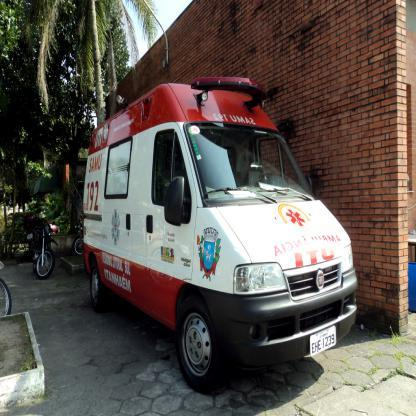ambulance: (84, 79, 360, 396)
